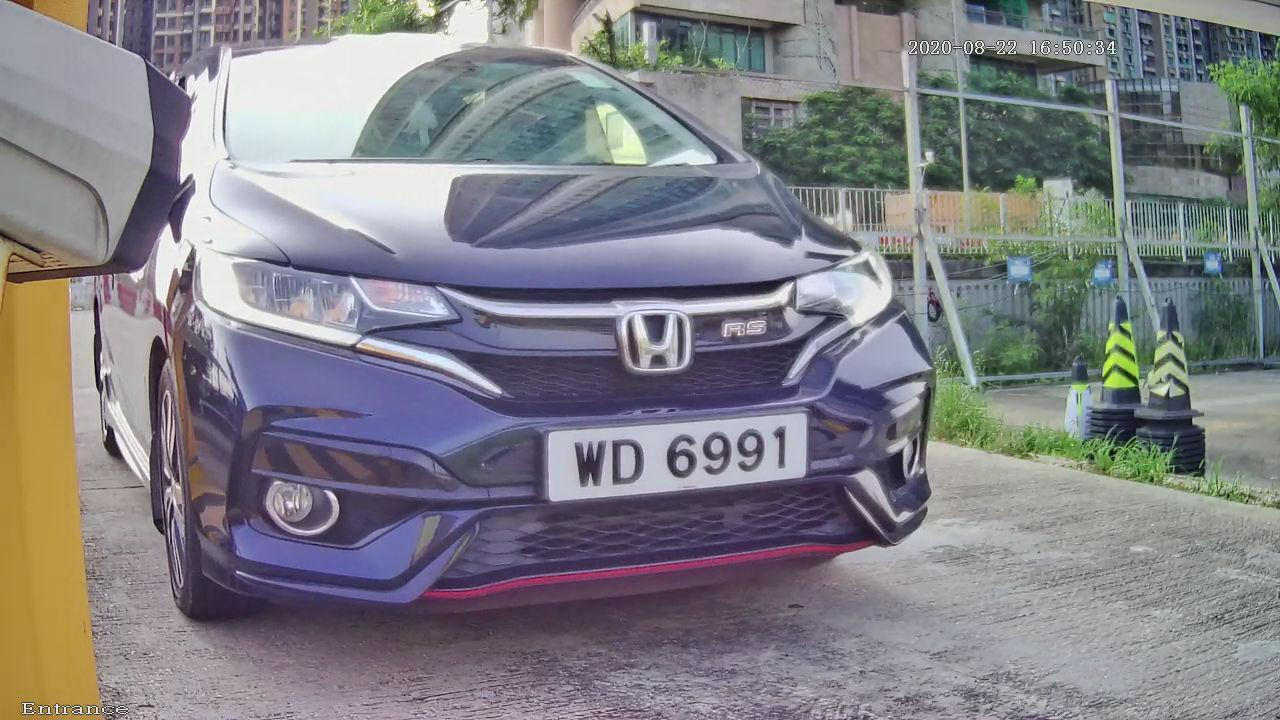Car: (63, 4, 1001, 669)
License Plate: (511, 381, 850, 528)
